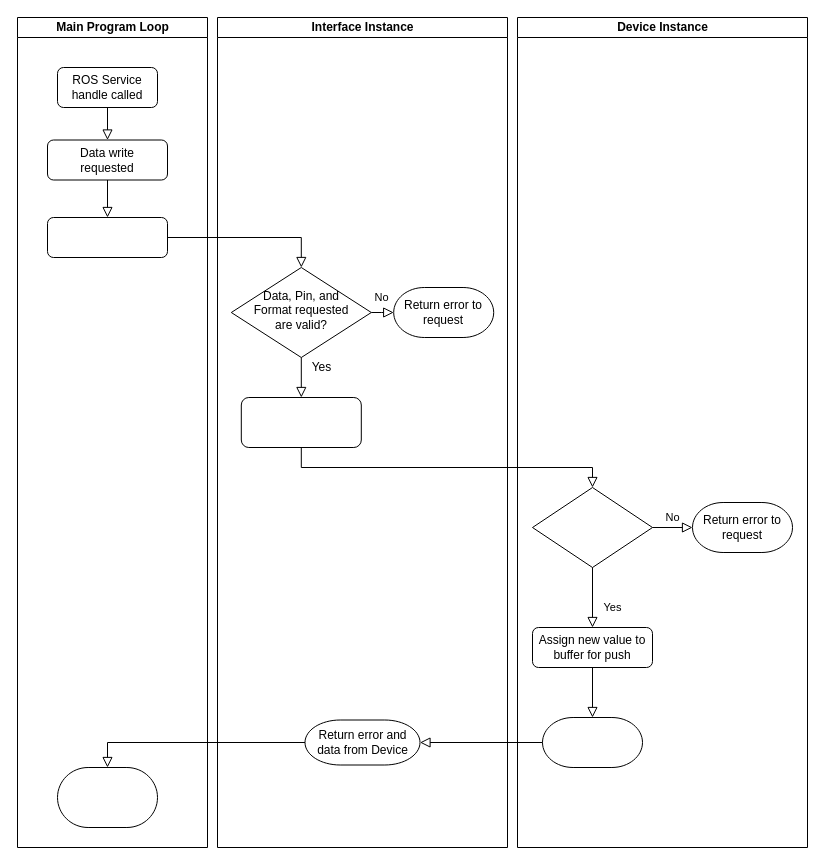
The diagram is 825 pixels wide and 865 high, and some of its shapes have lost their labels. The centre of each missing label's shape, as x and y in pixels:
"Pass data to Interface instance" belongs at (107,237).
"Reformat data and pass to Device instance" belongs at (300,422).
"Return data with timestamp and any errors." belongs at (107,797).
"Return success to request" belongs at (592,742).
"Will pin be writable on next push?" belongs at (592,527).
